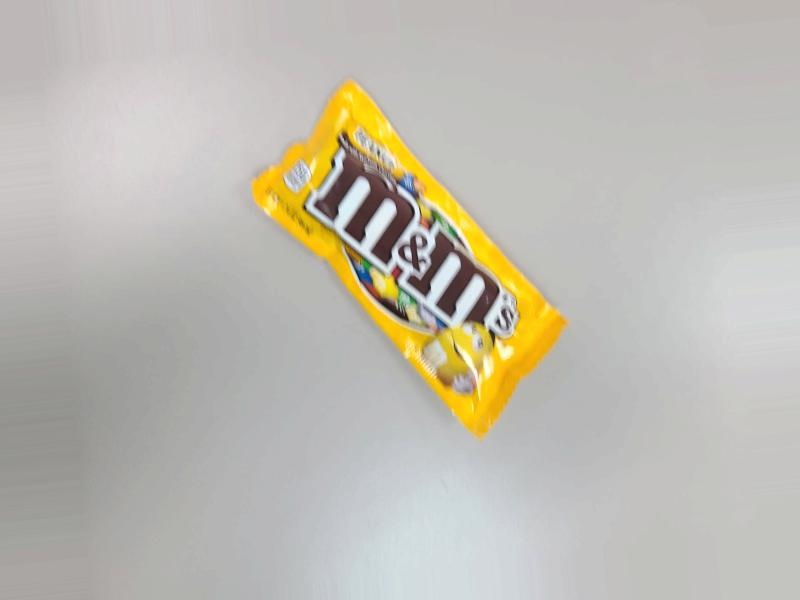m&m: (223, 53, 527, 445)
